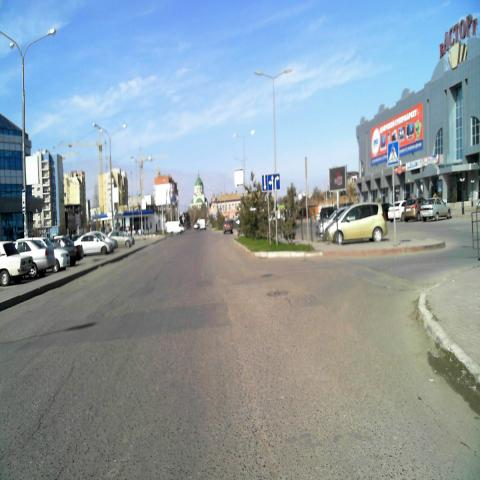5_15_7: (261, 173, 280, 192)
